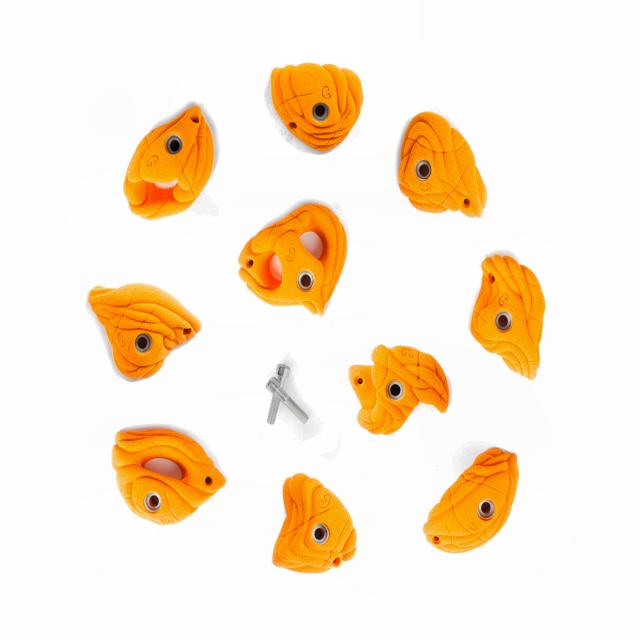Hold: (235, 202, 349, 318), (108, 423, 225, 525), (86, 278, 203, 379), (123, 103, 214, 221), (396, 109, 488, 224), (345, 343, 454, 436), (469, 255, 545, 384), (268, 62, 366, 155), (274, 474, 359, 574), (420, 439, 421, 440)
